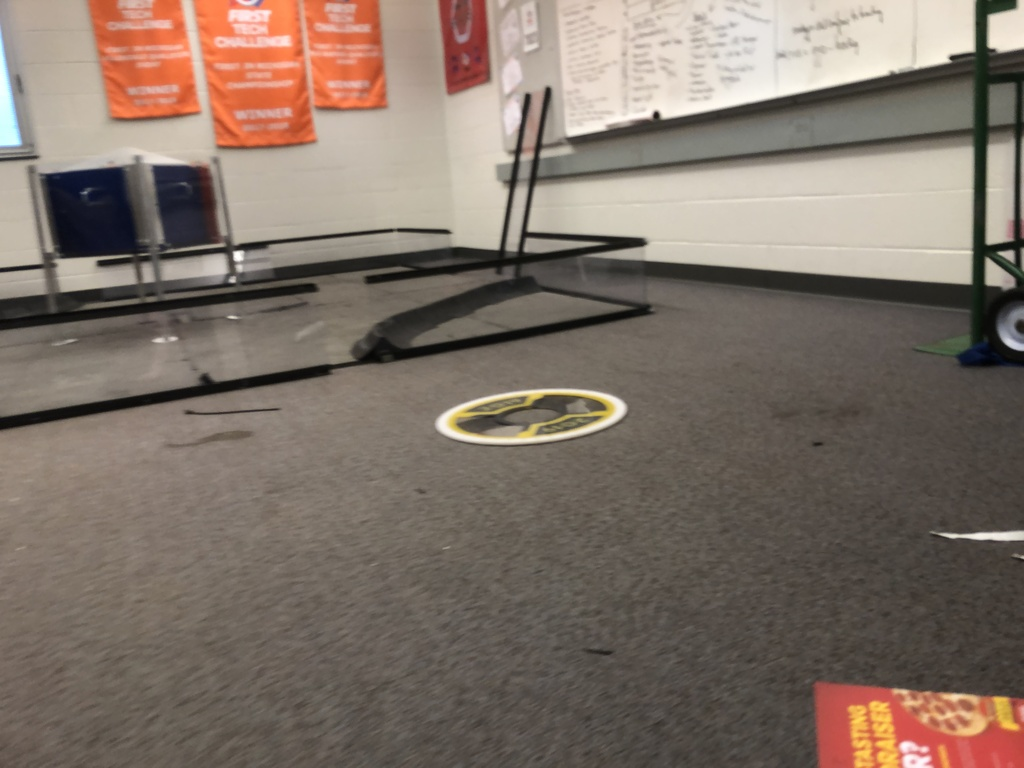hatch_panel: (428, 377, 638, 454)
